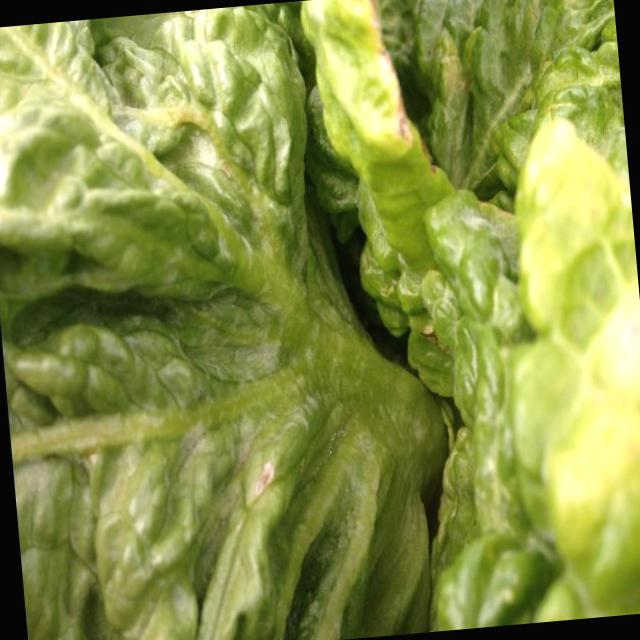Powdery_Mildew: (68, 284, 365, 587)
